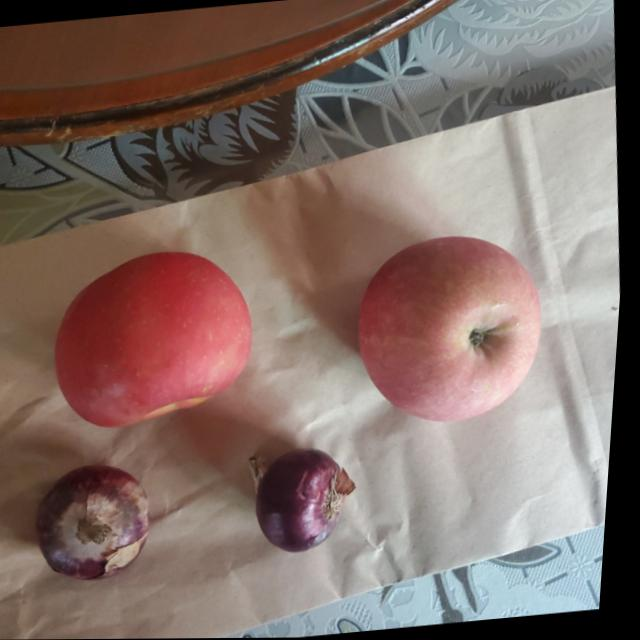apple: (347, 223, 555, 429), (50, 244, 269, 431)
onion: (35, 460, 167, 587), (244, 446, 359, 558)
